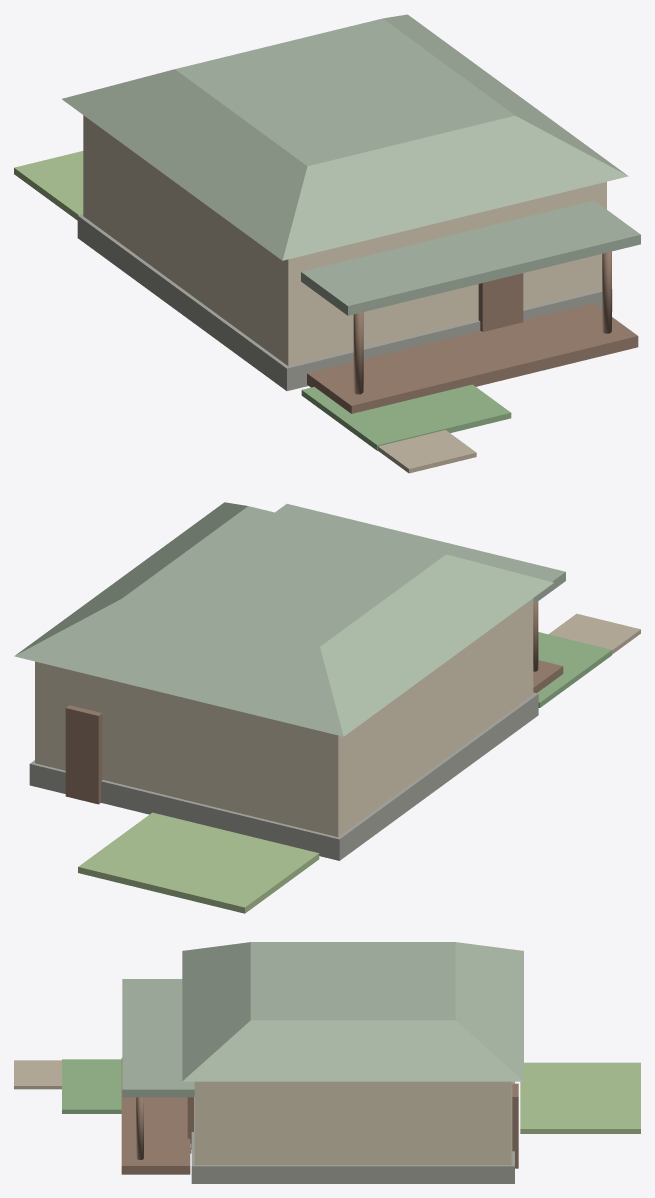
The model's file is veranda_bungalow_v1.lod2.glb.
3 renders of one model, top to bottom at view 1: azimuth 30°, elevation 25°; view 2: azimuth 150°, elevation 25°; view 3: azimuth 270°, elevation 25°, orthographic. The views are drawn at different scales.
Visible parts, largest first — view 1: MainRoof, MainBody, VerandaCanopy, VerandaSlab, StonePlinth, FrontGreenVerge, RearYardPatch, Driveway, PublicDoor, VerandaPost.001, VerandaPost; view 2: MainRoof, MainBody, RearYardPatch, StonePlinth, VerandaCanopy, ServiceDoor, FrontGreenVerge, Driveway, VerandaSlab; view 3: MainRoof, MainBody, RearYardPatch, VerandaCanopy, StonePlinth, VerandaSlab, FrontGreenVerge, Driveway, ServiceDoor, VerandaPost.
Boxes of the visible parts, box(x1,y1,x2,y2) form: MainRoof: box(62, 14, 628, 260); MainBody: box(83, 115, 606, 366); VerandaCanopy: box(301, 200, 640, 315); VerandaSlab: box(307, 303, 638, 413); StonePlinth: box(77, 214, 612, 390); FrontGreenVerge: box(301, 384, 511, 450); RearYardPatch: box(14, 151, 83, 220); Driveway: box(378, 430, 476, 473); PublicDoor: box(478, 273, 523, 331); VerandaPost.001: box(353, 312, 363, 394); VerandaPost: box(602, 251, 611, 333); MainRoof: box(14, 502, 553, 736); MainBody: box(35, 598, 533, 836); RearYardPatch: box(78, 812, 319, 913); StonePlinth: box(29, 692, 538, 860); VerandaCanopy: box(275, 504, 565, 604); ServiceDoor: box(65, 705, 102, 804); FrontGreenVerge: box(537, 632, 611, 707); Driveway: box(549, 613, 640, 654); VerandaSlab: box(533, 660, 563, 693); MainRoof: box(182, 942, 523, 1081); MainBody: box(194, 1081, 511, 1164); RearYardPatch: box(520, 1062, 640, 1133); VerandaCanopy: box(122, 979, 194, 1097); StonePlinth: box(191, 1081, 514, 1183); VerandaSlab: box(121, 1058, 190, 1174); FrontGreenVerge: box(62, 1059, 121, 1113); Driveway: box(14, 1060, 61, 1089); ServiceDoor: box(512, 1083, 518, 1168); VerandaPost: box(136, 1097, 143, 1159).
Size of the model in its own units: 8.97 by 4.52 by 18.19.
